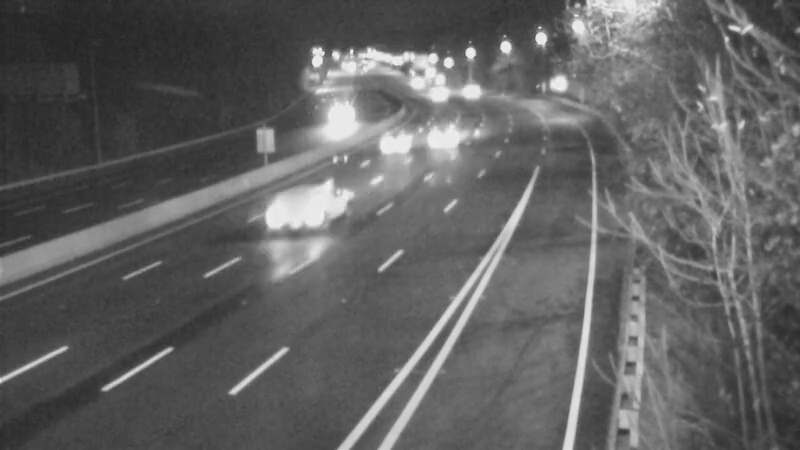vehicle: (252, 169, 332, 249), (444, 63, 494, 113), (409, 68, 459, 118), (416, 110, 466, 160), (375, 115, 425, 165), (319, 88, 369, 138)
